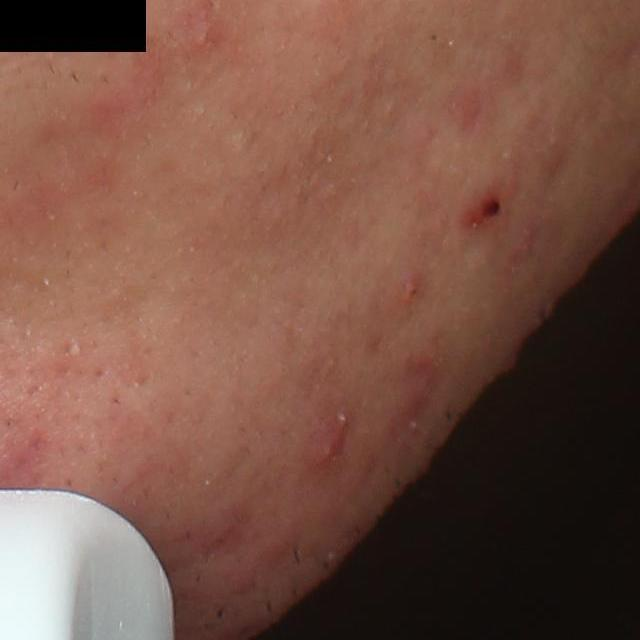papule: (307, 412, 356, 473), (461, 189, 507, 225), (192, 4, 220, 48), (397, 269, 426, 303)
